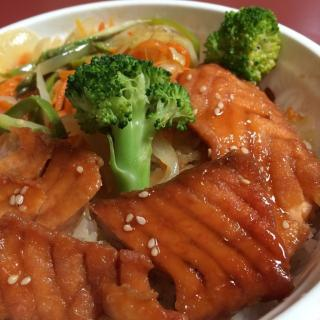Broccoli: (66, 54, 196, 193), (204, 4, 282, 84)
